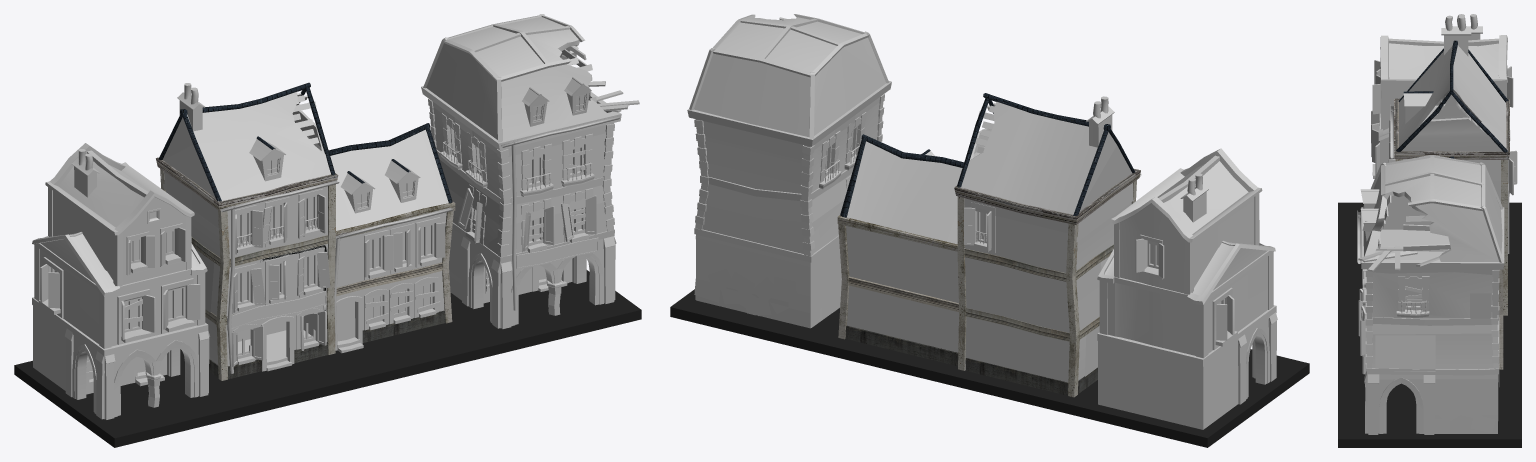
3 views of the same model, side by side, from view 1: azimuth 30°, elevation 25°; view 2: azimuth 150°, elevation 25°; view 3: azimuth 270°, elevation 25° (orthographic). The views are drawn at different scales.
Visible parts, largest first — view 1: Houses_22 - Default_0, Houses_trims_1D_0, Houses_Marche_Roof_0, Houses_Marche_Tiling_0 (×2), Houses_Marche_door_glass_0 (×3), Houses_roof_tall_0, Houses_flowers_trims_0, Houses_Marche_Windowframes_0 (×2), Houses_flowers_windows_0 (×2), Houses_unique_windows_0, Houses_Marche_First_Floor_0 (×2), Houses_flower_walls_0 (+14 smaller); view 2: Houses_trims_1D_0, Houses_Marche_Roof_0, Houses_22 - Default_0, Houses_Marche_First_Floor_0 (×2), Houses_Marche_Opacity_0 (×3), Houses_flower_walls_0, Houses_plaster_walls_short_0, Houses_roof_tall_0, Houses_flowers_trims_0, Houses_Marche_Tiling_0, Houses_plaster_walls_tall_0, Houses_Marche_Other_Floors_0 (+10 smaller); view 3: Houses_22 - Default_0, Houses_Marche_Roof_0, Houses_Marche_Opacity_0, Houses_Marche_Tiling_0 (×2), Houses_Marche_Other_Floors_0, Houses_roof_tall_0, Houses_trims_1D_0, Houses_brick_walls_sides_0, Houses_Marche_First_Floor_0, Houses_flowers_trims_0, Houses_flowers_roof_0, Houses_Marche_Windowframes_0 (+9 smaller).
Part boxes in pixels (box(x1,y1,x2,y2)): Houses_22 - Default_0: box(14, 270, 641, 447); Houses_trims_1D_0: box(156, 82, 455, 380); Houses_Marche_Roof_0: box(426, 17, 607, 140); Houses_Marche_Tiling_0 (×2): box(220, 14, 621, 373); Houses_Marche_door_glass_0 (×3): box(65, 151, 616, 419); Houses_roof_tall_0: box(177, 91, 330, 200); Houses_flowers_trims_0: box(32, 143, 208, 357); Houses_Marche_Windowframes_0 (×2): box(231, 94, 614, 366); Houses_flowers_windows_0 (×2): box(38, 208, 445, 379); Houses_unique_windows_0: box(184, 83, 434, 358); Houses_Marche_First_Floor_0 (×2): box(33, 225, 604, 419); Houses_flower_walls_0: box(40, 191, 197, 346); Houses_trims_1D_0: box(837, 93, 1140, 397); Houses_Marche_Roof_0: box(694, 17, 886, 137); Houses_22 - Default_0: box(670, 289, 1309, 447); Houses_Marche_First_Floor_0 (×2): box(696, 234, 1268, 429); Houses_Marche_Opacity_0 (×3): box(694, 97, 1252, 328); Houses_flower_walls_0: box(1107, 197, 1267, 355); Houses_plaster_walls_short_0: box(846, 226, 958, 352); Houses_roof_tall_0: box(961, 101, 1114, 214); Houses_flowers_trims_0: box(1097, 148, 1276, 366); Houses_Marche_Tiling_0: box(687, 14, 891, 262); Houses_plaster_walls_tall_0: box(964, 196, 1069, 332); Houses_Marche_Other_Floors_0: box(702, 103, 879, 253); Houses_22 - Default_0: box(1338, 202, 1521, 447); Houses_Marche_Roof_0: box(1361, 157, 1502, 261); Houses_Marche_Opacity_0: box(1362, 221, 1499, 433); Houses_Marche_Tiling_0 (×2): box(1357, 105, 1504, 375); Houses_Marche_Other_Floors_0: box(1364, 204, 1493, 369); Houses_roof_tall_0: box(1399, 28, 1506, 148); Houses_trims_1D_0: box(1394, 40, 1509, 369); Houses_brick_walls_sides_0: box(1401, 35, 1502, 201); Houses_Marche_First_Floor_0: box(1367, 374, 1497, 433); Houses_flowers_trims_0: box(1378, 35, 1510, 196); Houses_flowers_roof_0: box(1383, 43, 1499, 134); Houses_Marche_Windowframes_0: box(1358, 269, 1499, 363).
Bounding box in the file's own units: 3679 × 1813 × 1174.
